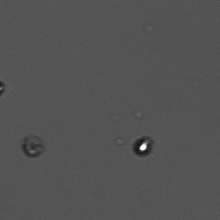Dead Cell: (18, 132, 50, 159)
Living Cell: (130, 133, 158, 157)
